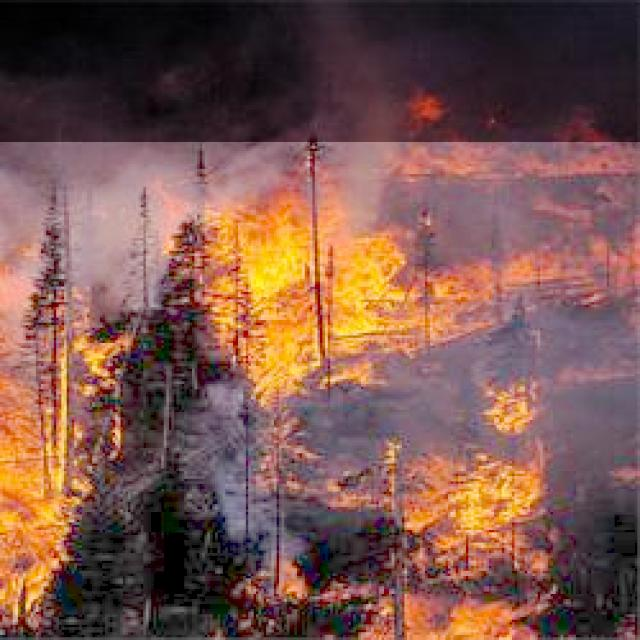Fire: (0, 142, 640, 640)
